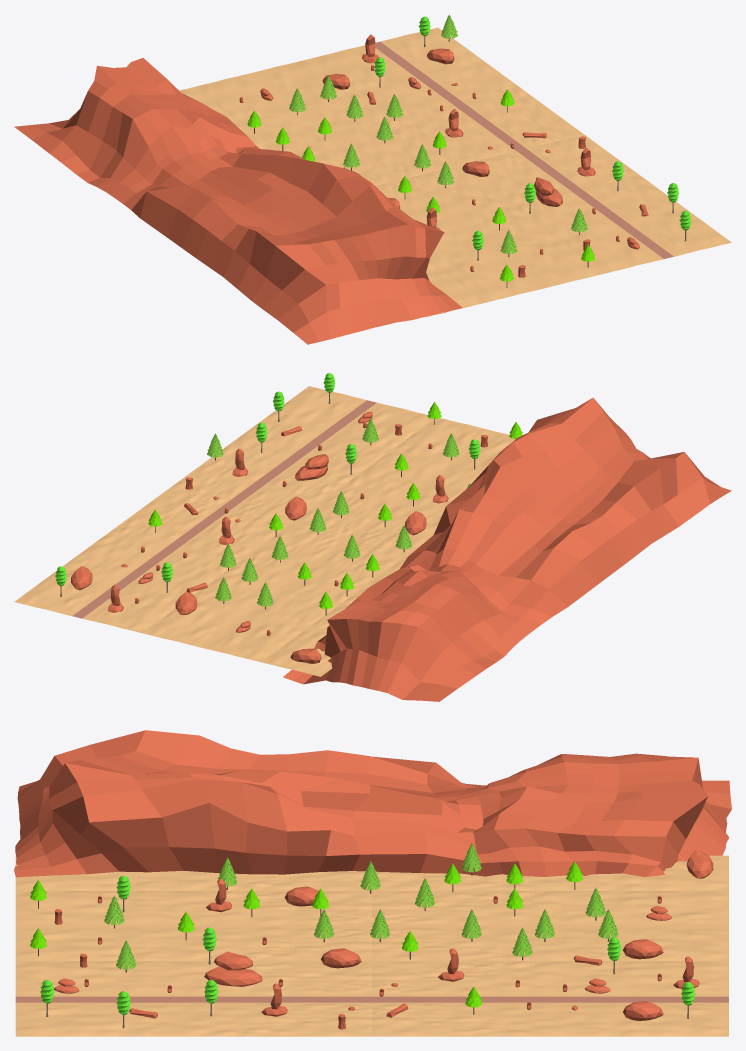
The picture shows the model from 3 angles, top to bottom: view 1: azimuth 30°, elevation 25°; view 2: azimuth 150°, elevation 25°; view 3: azimuth 270°, elevation 25°; orthographic projection. The views are drawn at different scales.
Visible parts, largest first — view 1: arde.001; view 2: arde.001; view 3: arde.001.
Boxes of the visible parts, x1,y1,x2,y2 form: arde.001: [14, 14, 731, 344]; arde.001: [14, 373, 731, 701]; arde.001: [14, 730, 731, 1036].
Size of the model in its own units: 22131 by 6481 by 26436.
